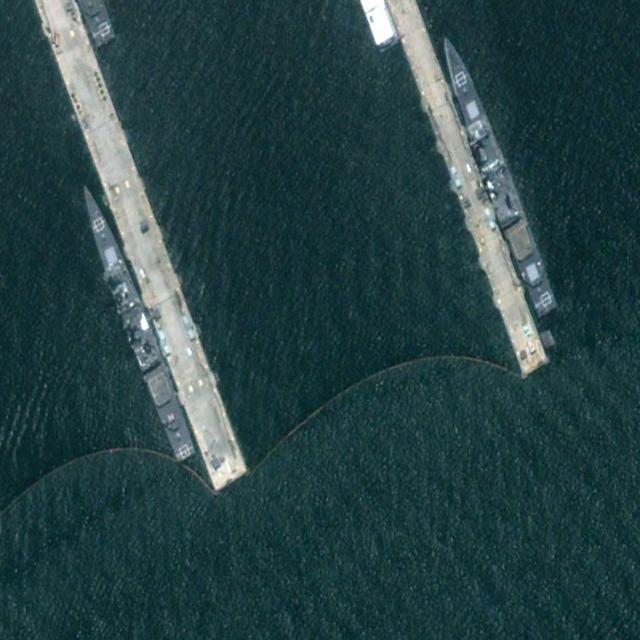Cruiser: (432, 26, 560, 323), (72, 176, 198, 468)
